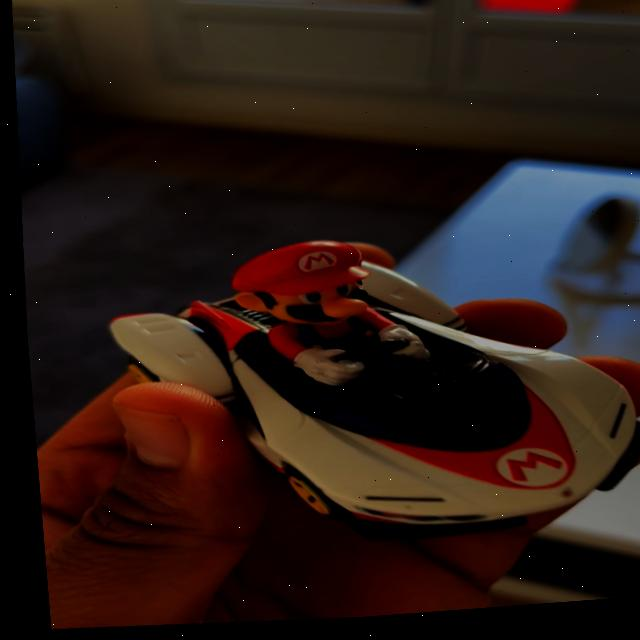mario: (67, 211, 640, 568)
